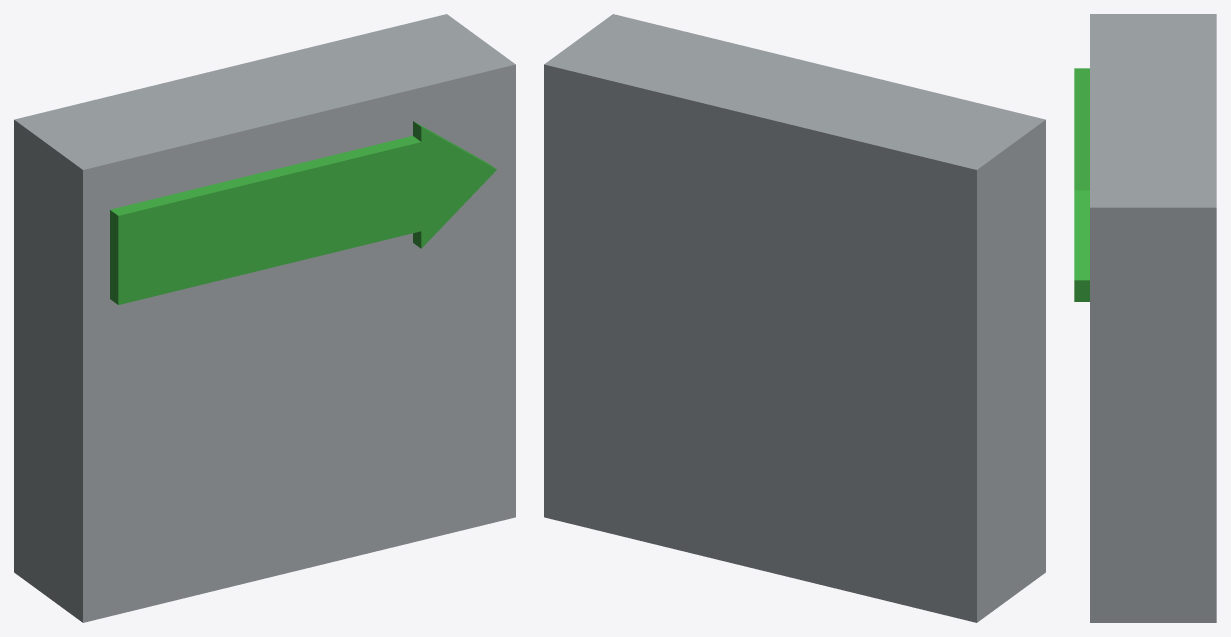
File: tinker.obj
3 views of the same model, side by side, from view 1: azimuth 30°, elevation 25°; view 2: azimuth 150°, elevation 25°; view 3: azimuth 270°, elevation 25° (orthographic). The views are drawn at different scales.
Visible parts, largest first — view 1: group_0_10988977, group_0_4634441; view 2: group_0_10988977; view 3: group_0_10988977, group_0_4634441.
Boxes of the visible parts, left/top/right/bottom form: group_0_10988977: left=14, top=14, right=515, bottom=622; group_0_4634441: left=110, top=121, right=496, bottom=304; group_0_10988977: left=544, top=14, right=1045, bottom=622; group_0_10988977: left=1090, top=14, right=1216, bottom=622; group_0_4634441: left=1074, top=68, right=1089, bottom=301.
Bounding box in the file's own units: 1 × 1 × 0.31.
